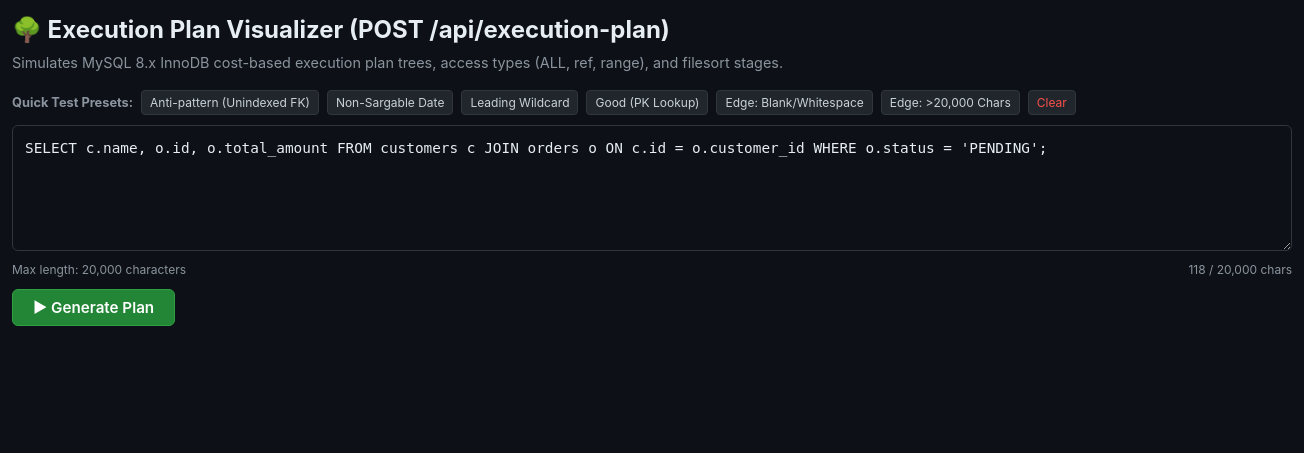
ExecutionPlanPage Component › handles network failure cleanly
Click the button "▶ Generate Plan": (94, 308) [12,289,175,326]
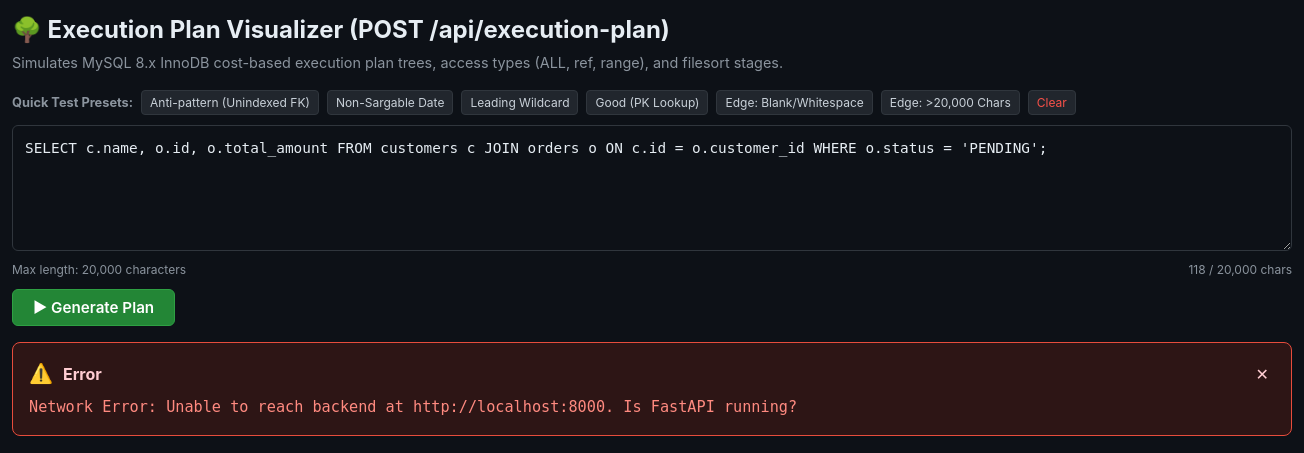
Expected: the text "Network Error: Unable to reach backend" is shown, [29,398,797,416]
